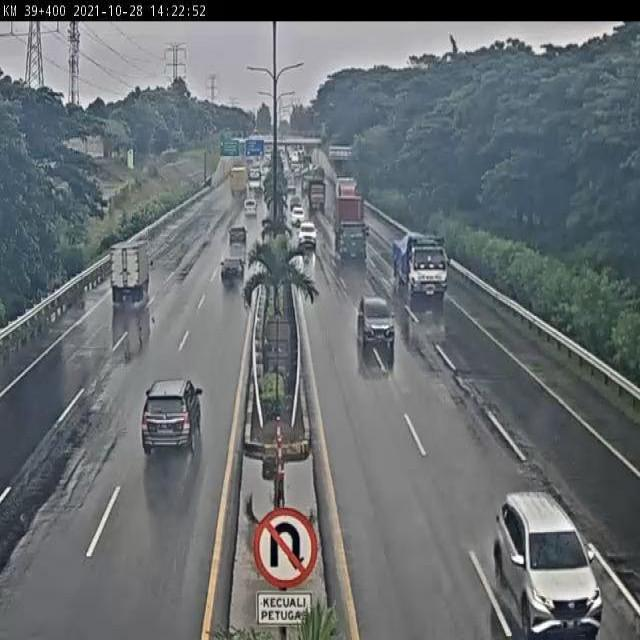car: (140, 378, 201, 454)
truck-l-: (395, 233, 451, 300)
truck-m-: (110, 241, 153, 304)
truck-xl-: (335, 196, 374, 271)
